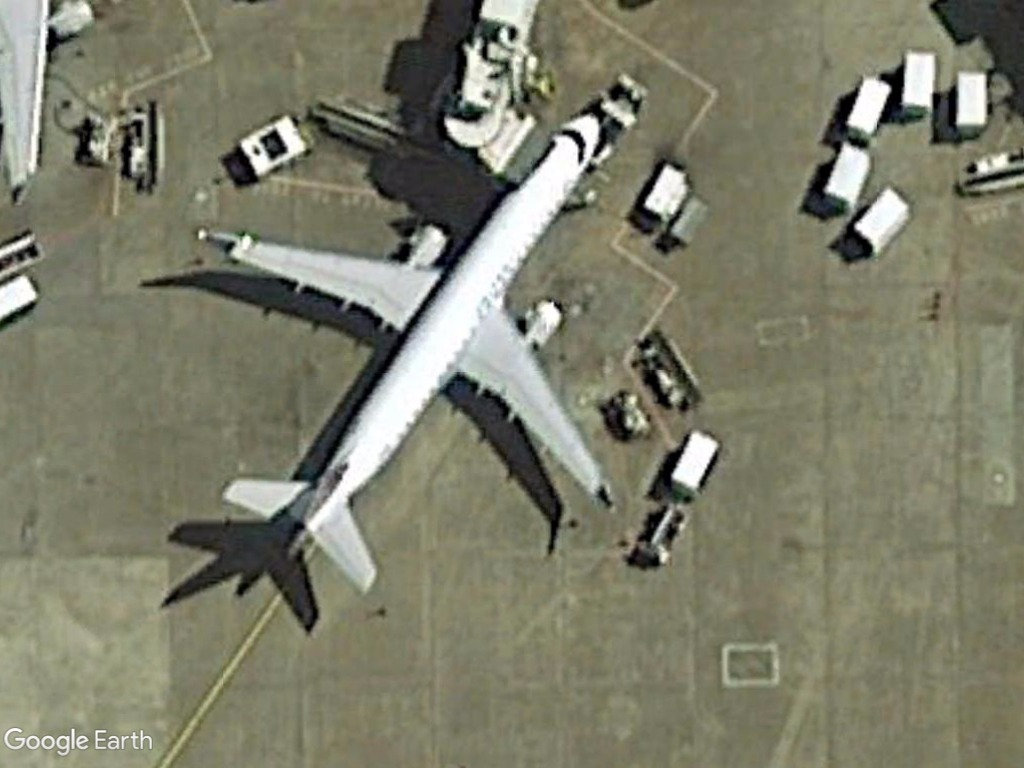airliner: (218, 105, 611, 592)
